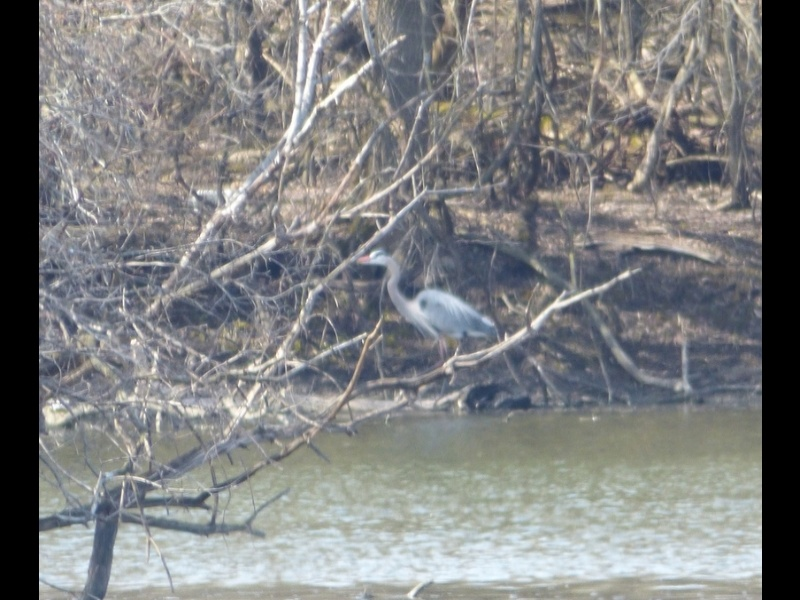heron: (355, 247, 502, 366)
